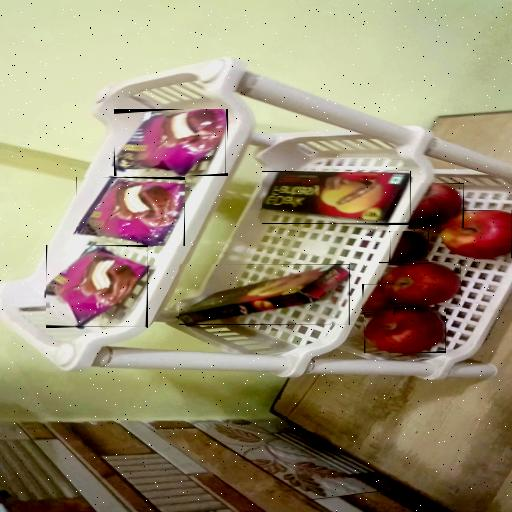Apple: (365, 308, 445, 353), (379, 263, 461, 306), (441, 210, 512, 258), (409, 184, 463, 227), (390, 232, 428, 264), (363, 284, 393, 313)
Choco Fills: (179, 264, 349, 324), (262, 172, 410, 224)
Choco Pie: (46, 245, 148, 327), (76, 177, 185, 246), (116, 109, 226, 176)
